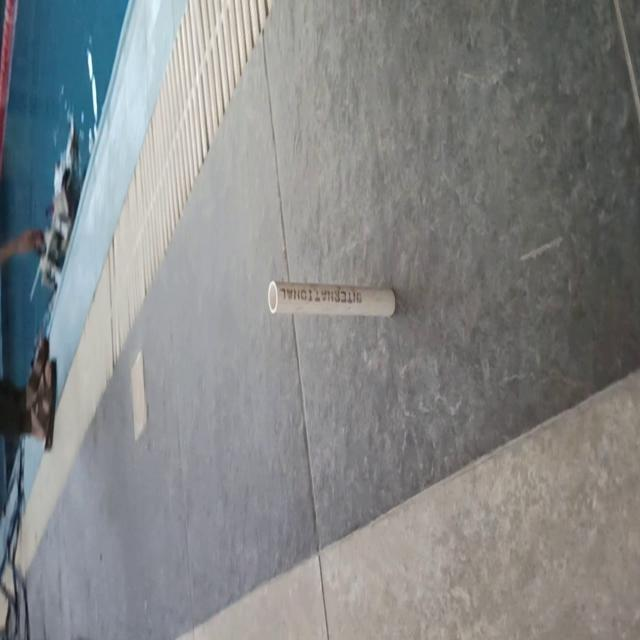Cube: (266, 278, 396, 319)
